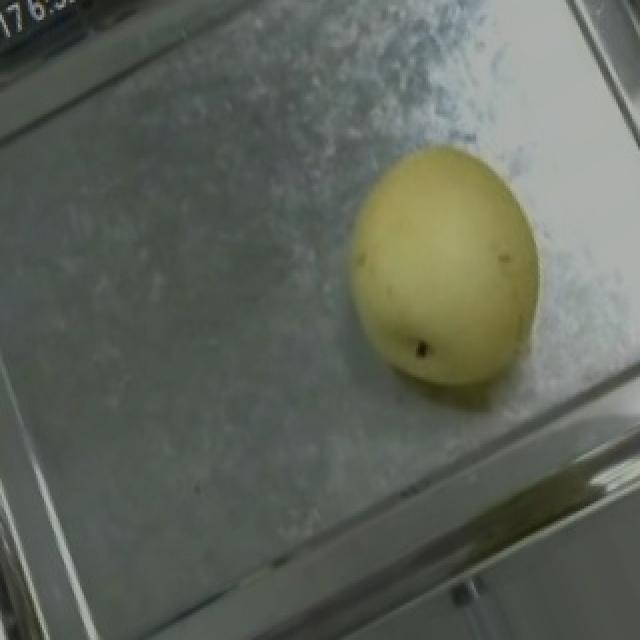Fruit: (298, 106, 596, 436)
